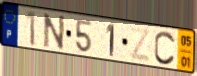1: (26, 11, 37, 48), (106, 23, 115, 58)
5: (74, 19, 93, 54)
C: (153, 29, 176, 67)
N: (42, 12, 67, 52)
Z: (129, 26, 152, 65)
